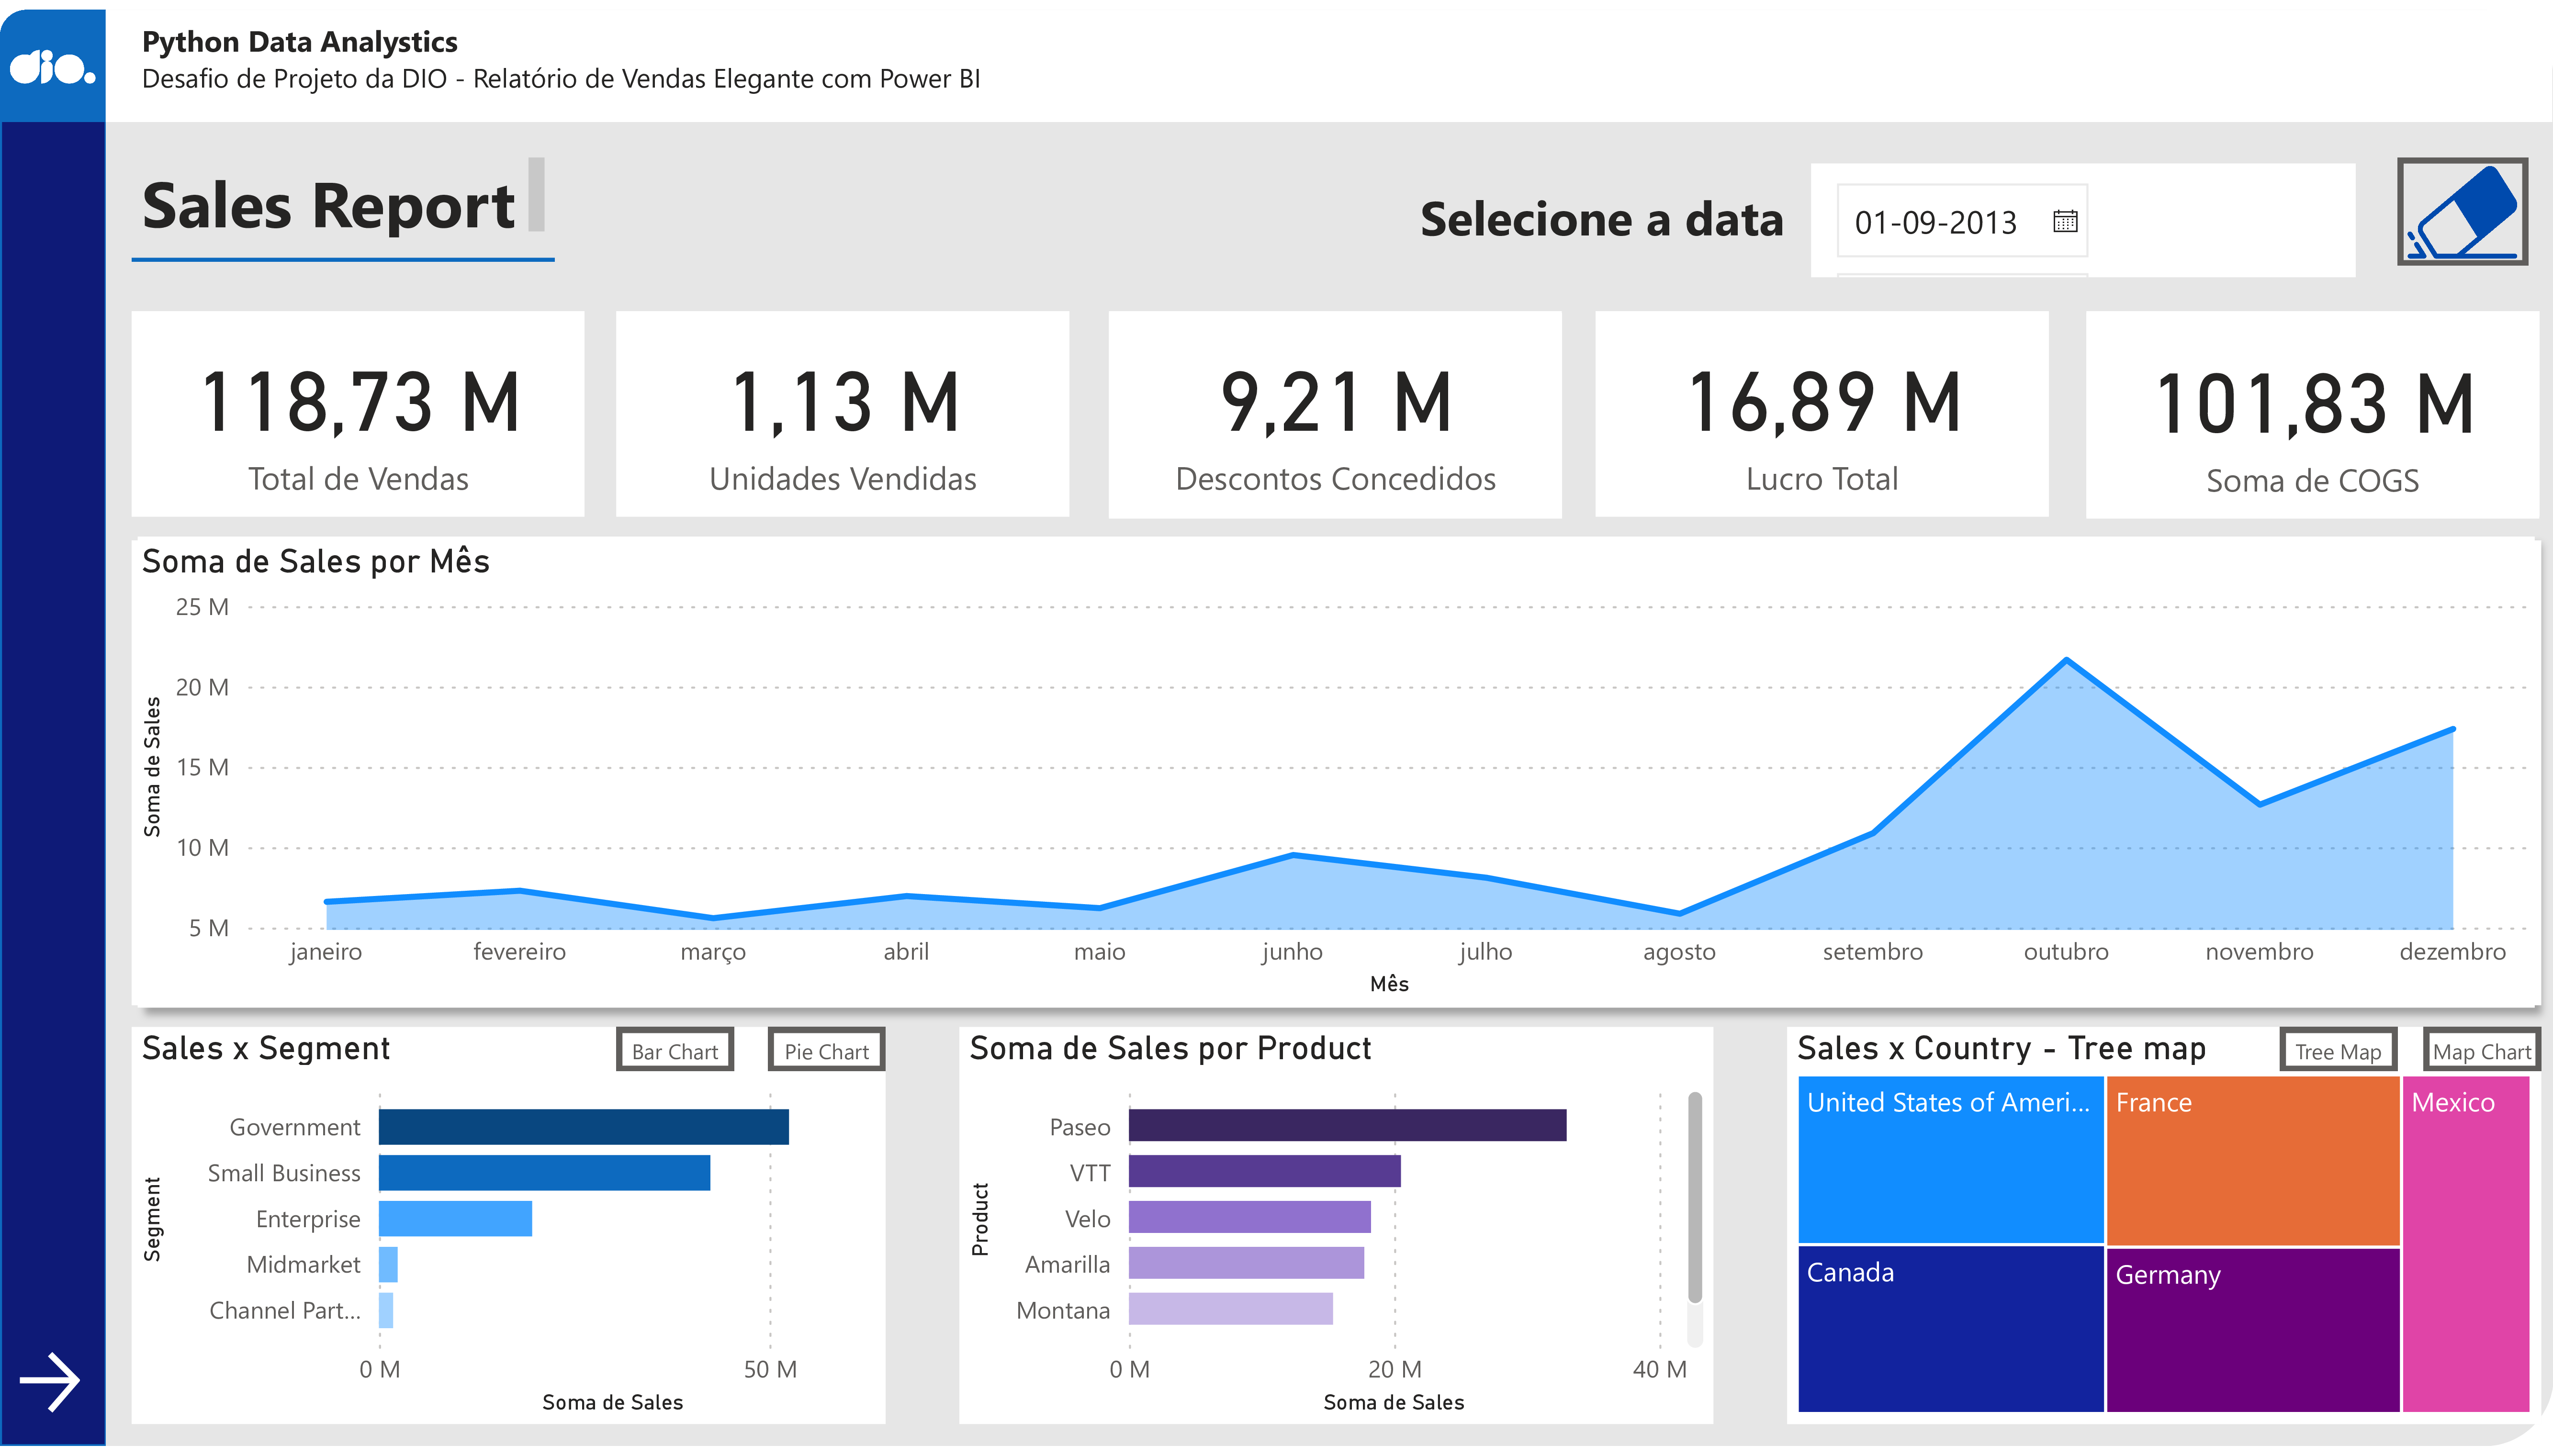

What the dashboard file says about the page in this screenshot:
{"tool":"powerbi","page":{"name":"Home","canvas":[1280,720],"ordinal":0},"visuals":[{"type":"shape","box":[9.7,0,1270.3,720.2],"z":0},{"type":"slicer","fields":{"Values":["financials.Date"]},"box":[907.9,76.8,273.2,57.2],"z":0,"group":"g2"},{"type":"shape","box":[66.3,151.3,227.4,103],"z":0,"group":"g1"},{"type":"shape","box":[0,0,53.5,720.2],"z":1000},{"type":"textbox","box":[706.6,81.8,201.2,45.6],"z":1000,"group":"g2"},{"type":"shape","box":[309.3,151.3,227.4,103],"z":1000,"group":"g1"},{"type":"clusteredBarChart","title":"Sales x Segment","fields":{"Category":["financials.Segment"],"Y":["Sum(financials. Sales)"]},"box":[66.3,509.6,377.9,198.8],"z":1000,"group":"g4"},{"type":"shape","box":[0,0,53.5,56.4],"z":2000},{"type":"actionButton","title":"Clean","box":[1201.1,74.1,65.6,54.5],"z":2000,"group":"g2"},{"type":"shape","box":[556.5,151.9,227.5,103],"z":2000,"group":"g1"},{"type":"map","title":"Sales x Country - Maps","fields":{"Category":["financials.Country"],"Size":["Sum(financials. Sales)"]},"box":[895.5,509.6,377.9,198.8],"z":2000,"group":"g3"},{"type":"actionButton","title":"Botão - pie","box":[385.1,509.6,59.1,22.4],"z":2500,"group":"g4"},{"type":"image","box":[0,10.7,53.5,35],"z":3000},{"type":"shape","box":[800.1,151.3,227.4,103],"z":3000,"group":"g1"},{"type":"actionButton","title":"Botão - bar","box":[309,509.6,59.1,22.4],"z":3000,"group":"g4"},{"type":"actionButton","title":"Botão - tree map","box":[1142.7,509.6,59.1,22.4],"z":3250,"group":"g3"},{"type":"actionButton","title":"Botão - map","box":[1214.3,509.6,59.1,22.4],"z":3500,"group":"g3"},{"type":"shape","box":[53.5,0,1226.5,56.4],"z":4000},{"type":"shape","box":[1046,151.3,227.4,103],"z":4000,"group":"g1"},{"type":"textbox","box":[66.1,0,547.6,56.3],"z":5000},{"type":"group","id":"g1","title":"Cartões","box":[66.3,151.3,1207.1,103.6],"z":6000},{"type":"shape","box":[66.3,119.1,212.2,12.5],"z":7000},{"type":"textbox","box":[66.3,69,212.2,50.1],"z":8000},{"type":"shape","box":[60,255.2,1219.7,254.3],"z":9000},{"type":"shape","box":[480.9,509.6,377.9,198.8],"z":10000},{"type":"shape","box":[895.5,509.6,377.9,198.8],"z":11000},{"type":"card","fields":{"Values":["Sum(financials. Sales)"]},"box":[66.3,151.3,227.5,103],"z":12000},{"type":"card","fields":{"Values":["Sum(financials.Units Sold)"]},"box":[309,151.3,227.5,103],"z":13000},{"type":"card","fields":{"Values":["Sum(financials.Discounts)"]},"box":[556.1,151.3,227.5,103],"z":14000},{"type":"card","fields":{"Values":["Sum(financials.COGS)"]},"box":[1046,152.2,227.5,103],"z":15000},{"type":"card","fields":{"Values":["Sum(financials.Profit)"]},"box":[799.7,151.3,227.5,103],"z":16000},{"type":"shape","title":"SalesxSegmento - Bar","box":[66.3,509.6,377.9,198.8],"z":17000},{"type":"image","box":[1193.7,69,79.7,65.4],"z":18000},{"type":"stackedAreaChart","fields":{"Category":["financials.Date.Variation.Hierarquia de datas.Mês"],"Y":["Sum(financials. Sales)"]},"box":[66.1,266.2,1207.7,233.1],"z":19000},{"type":"clusteredBarChart","fields":{"Y":["Sum(financials. Sales)"],"Category":["financials.Product"]},"box":[480.9,509.6,377.9,198.8],"z":20000},{"type":"group","id":"g2","title":"Filtro por Data","box":[706.6,74.1,560.1,59.8],"z":21000},{"type":"group","id":"g3","title":"Sales x Country","box":[895.5,509.6,377.9,198.8],"z":22000},{"type":"group","id":"g4","title":"Sales x Segment","box":[66.3,509.6,377.9,198.8],"z":23000},{"type":"actionButton","box":[4.5,668.1,43.9,40.3],"z":24000}]}

Visuals, with their boxes on the page's 1280x720 design canvas (x1, y1, x2, y2). These are canvas units, not pixel positions in the 2553x1456 screenshot, which may show the page scaled, cropped or inside an application window:
shape: bbox(10, 0, 1280, 720)
slicer - financials.Date: bbox(908, 77, 1181, 134)
shape: bbox(66, 151, 294, 254)
shape: bbox(0, 0, 54, 720)
textbox: bbox(707, 82, 908, 127)
shape: bbox(309, 151, 537, 254)
"Sales x Segment" clusteredBarChart: bbox(66, 510, 444, 708)
shape: bbox(0, 0, 54, 56)
"Clean" actionButton: bbox(1201, 74, 1267, 129)
shape: bbox(556, 152, 784, 255)
"Sales x Country - Maps" map: bbox(896, 510, 1273, 708)
"Botão - pie" actionButton: bbox(385, 510, 444, 532)
image: bbox(0, 11, 54, 46)
shape: bbox(800, 151, 1028, 254)
"Botão - bar" actionButton: bbox(309, 510, 368, 532)
"Botão - tree map" actionButton: bbox(1143, 510, 1202, 532)
"Botão - map" actionButton: bbox(1214, 510, 1273, 532)
shape: bbox(54, 0, 1280, 56)
shape: bbox(1046, 151, 1273, 254)
textbox: bbox(66, 0, 614, 56)
"Cartões" group: bbox(66, 151, 1273, 255)
shape: bbox(66, 119, 278, 132)
textbox: bbox(66, 69, 278, 119)
shape: bbox(60, 255, 1280, 510)
shape: bbox(481, 510, 859, 708)
shape: bbox(896, 510, 1273, 708)
card - Sum(financials. Sales): bbox(66, 151, 294, 254)
card - Sum(financials.Units Sold): bbox(309, 151, 536, 254)
card - Sum(financials.Discounts): bbox(556, 151, 784, 254)
card - Sum(financials.COGS): bbox(1046, 152, 1274, 255)
card - Sum(financials.Profit): bbox(800, 151, 1027, 254)
"SalesxSegmento - Bar" shape: bbox(66, 510, 444, 708)
image: bbox(1194, 69, 1273, 134)
stackedAreaChart - financials.Date.Variation.Hierarquia de datas.Mês x Sum(financials. Sales): bbox(66, 266, 1274, 499)
clusteredBarChart - Sum(financials. Sales) x financials.Product: bbox(481, 510, 859, 708)
"Filtro por Data" group: bbox(707, 74, 1267, 134)
"Sales x Country" group: bbox(896, 510, 1273, 708)
"Sales x Segment" group: bbox(66, 510, 444, 708)
actionButton: bbox(4, 668, 48, 708)
